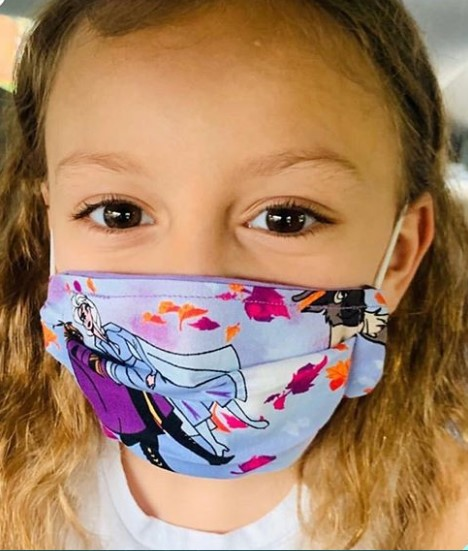face_with_mask: (22, 3, 453, 491)
